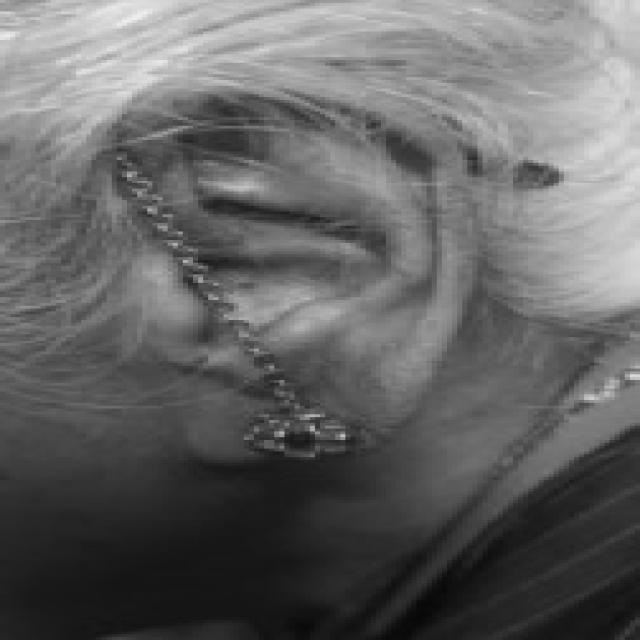ear: (122, 66, 467, 431), (137, 246, 239, 377), (239, 380, 249, 400)
